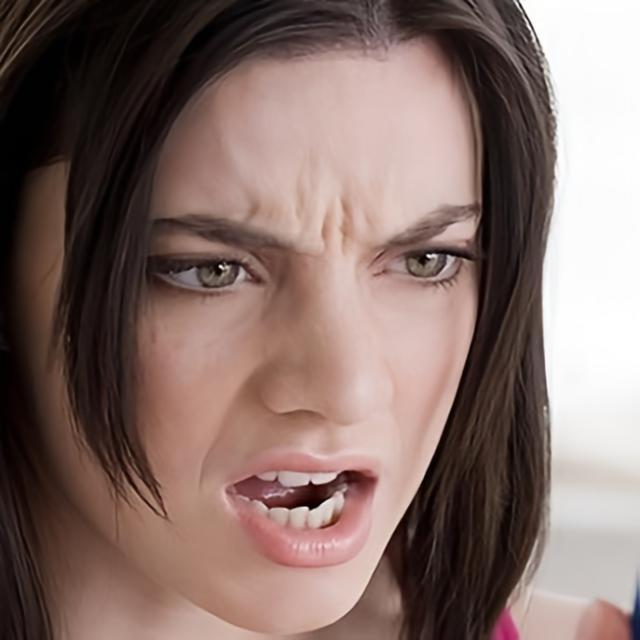anger: (116, 41, 482, 606)
